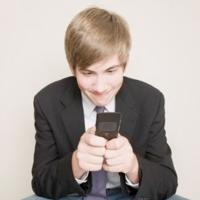person without safety: (45, 6, 167, 192)
